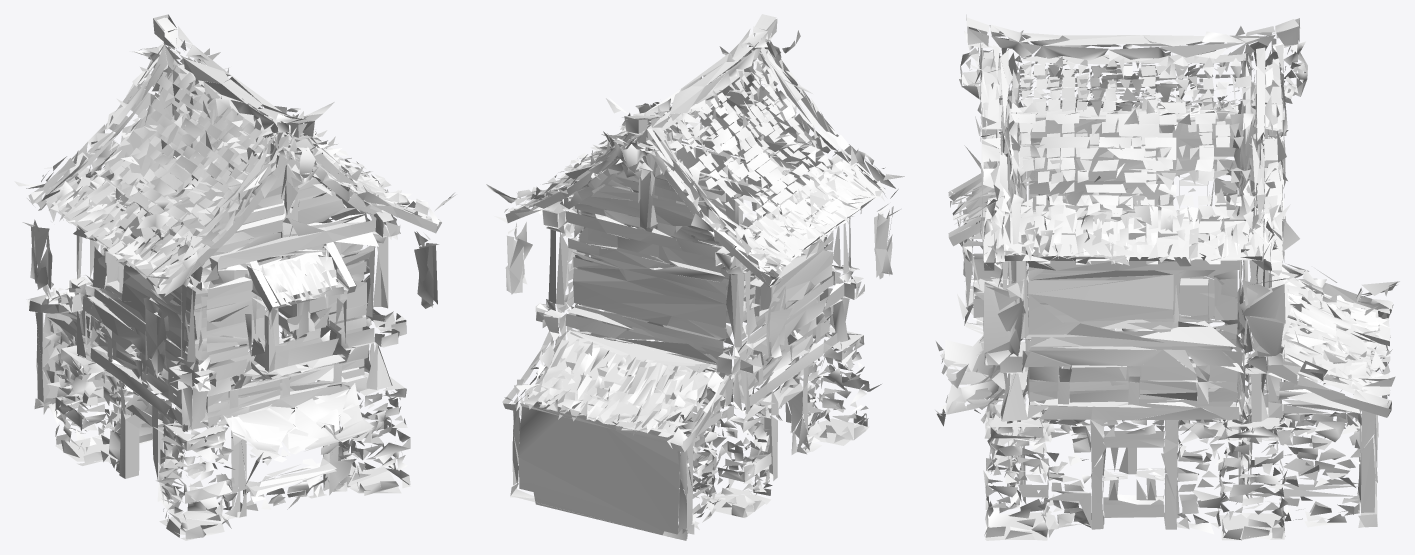
Rendered from house_bal_c_lod2.glb.
3 renders of one model, left to right at view 1: azimuth 30°, elevation 25°; view 2: azimuth 150°, elevation 25°; view 3: azimuth 270°, elevation 25°, orthographic. The views are drawn at different scales.
Parts seen in each view (by area): view 1: house_bal_c; view 2: house_bal_c; view 3: house_bal_c.
Part boxes in pixels (box(x1,y1,x2,y2)): house_bal_c: box(14, 14, 456, 540); house_bal_c: box(486, 14, 904, 540); house_bal_c: box(935, 14, 1399, 540).
Size of the model in its own units: 8.29 by 10.12 by 9.21.
Materials: 1 (1 with a texture image).
